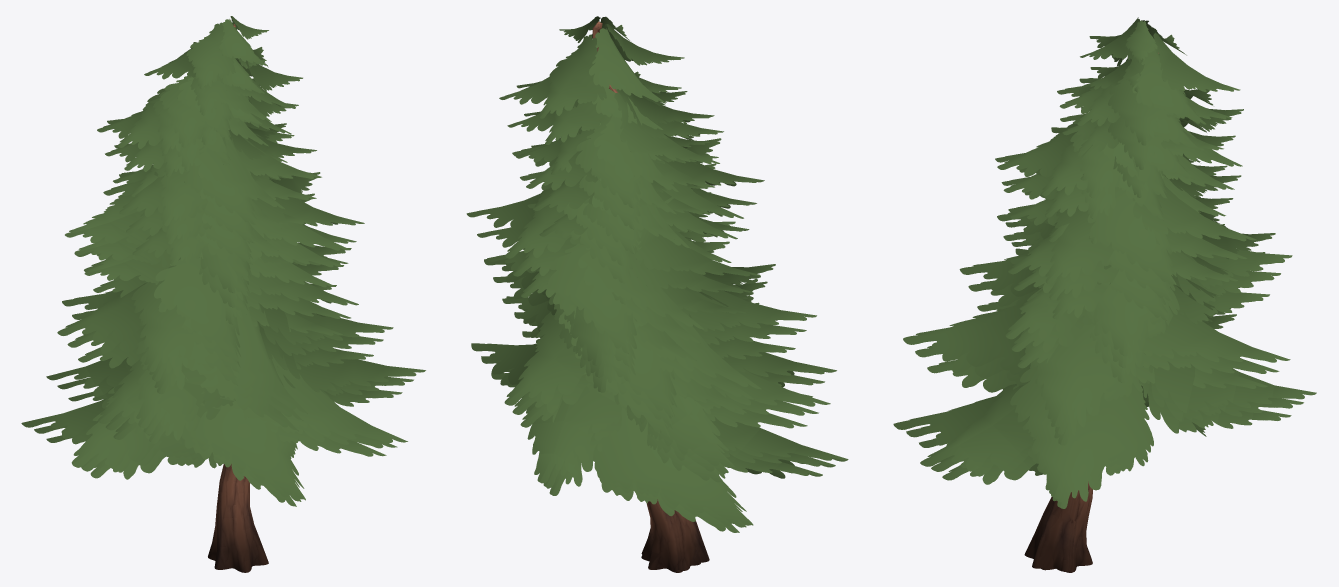
The model's file is pine.glb.
3 views of the same model, side by side, from view 1: azimuth 30°, elevation 25°; view 2: azimuth 150°, elevation 25°; view 3: azimuth 270°, elevation 25° (orthographic). The views are drawn at different scales.
Visible parts, largest first — view 1: Pine_5, Pine_5.001, Pine_5.002; view 2: Pine_5, Pine_5.001, Pine_5.002; view 3: Pine_5, Pine_5.001, Pine_5.002.
Boxes of the visible parts, x1,y1,x2,y2 form: Pine_5: (21, 16, 425, 572); Pine_5.001: (34, 56, 413, 501); Pine_5.002: (46, 96, 402, 506); Pine_5: (466, 16, 848, 570); Pine_5.001: (477, 76, 835, 570); Pine_5.002: (487, 121, 822, 572); Pine_5: (893, 17, 1316, 571); Pine_5.001: (906, 58, 1303, 570); Pine_5.002: (919, 117, 1291, 572).
Bounding box in the file's own units: 5.86 × 7.99 × 5.68.
2 materials, 2 textured.
